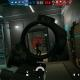Character: (35, 40, 41, 55)
Head: (37, 40, 40, 42)
